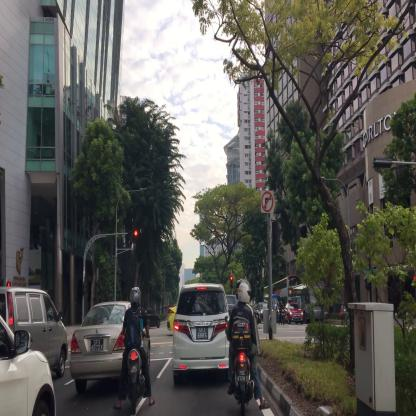red_traffic_light: (127, 230, 138, 236), (230, 276, 233, 288)
